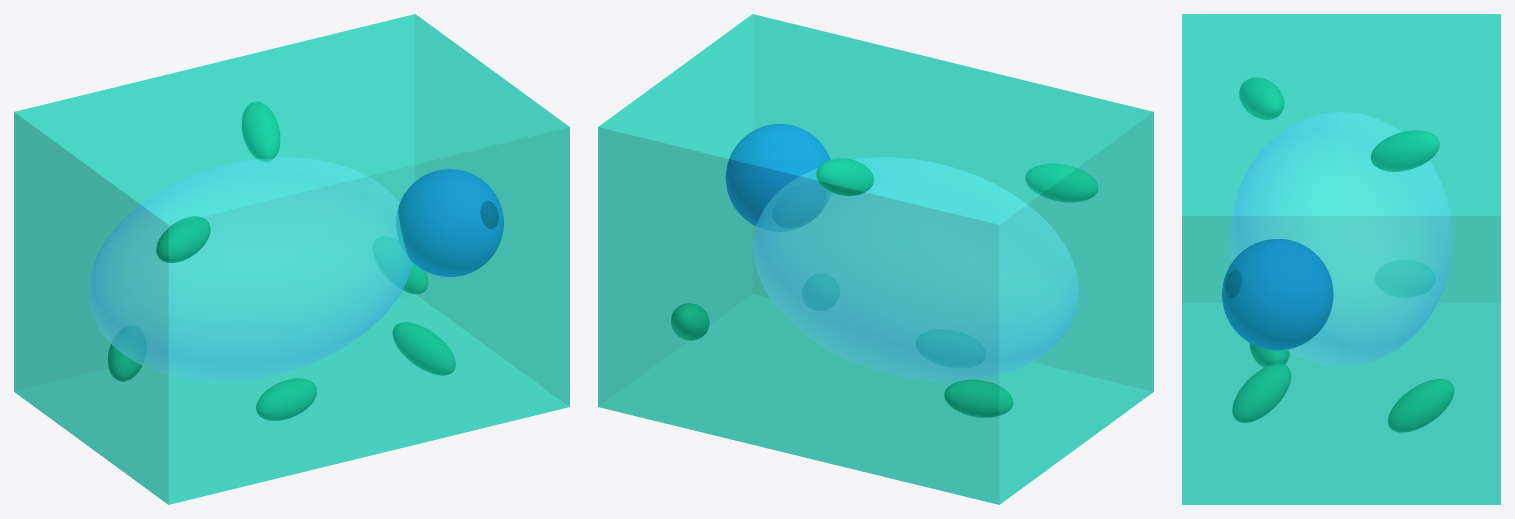
Rendered from plant.glb.
3 views of the same model, side by side, from view 1: azimuth 30°, elevation 25°; view 2: azimuth 150°, elevation 25°; view 3: azimuth 270°, elevation 25° (orthographic). The views are drawn at different scales.
Visible parts, largest first — view 1: b, vacuole, nucleus, chloroplast (×5); view 2: b, vacuole, nucleus, chloroplast (×4); view 3: b, vacuole, nucleus, chloroplast (×5), nucleolus.
Boxes of the visible parts, <box> form: b: <box>14,14,569,504</box>; vacuole: <box>89,157,412,380</box>; nucleus: <box>396,169,503,276</box>; chloroplast (×5): <box>107,101,455,420</box>; b: <box>598,14,1153,504</box>; vacuole: <box>753,157,1078,380</box>; nucleus: <box>725,124,830,228</box>; chloroplast (×4): <box>671,158,1098,417</box>; b: <box>1182,14,1500,504</box>; vacuole: <box>1230,112,1452,366</box>; nucleus: <box>1222,239,1333,350</box>; chloroplast (×5): <box>1232,77,1454,432</box>; nucleolus: <box>1225,269,1242,298</box>.
Size of the model in its own units: 0.3 by 0.2 by 0.2.
